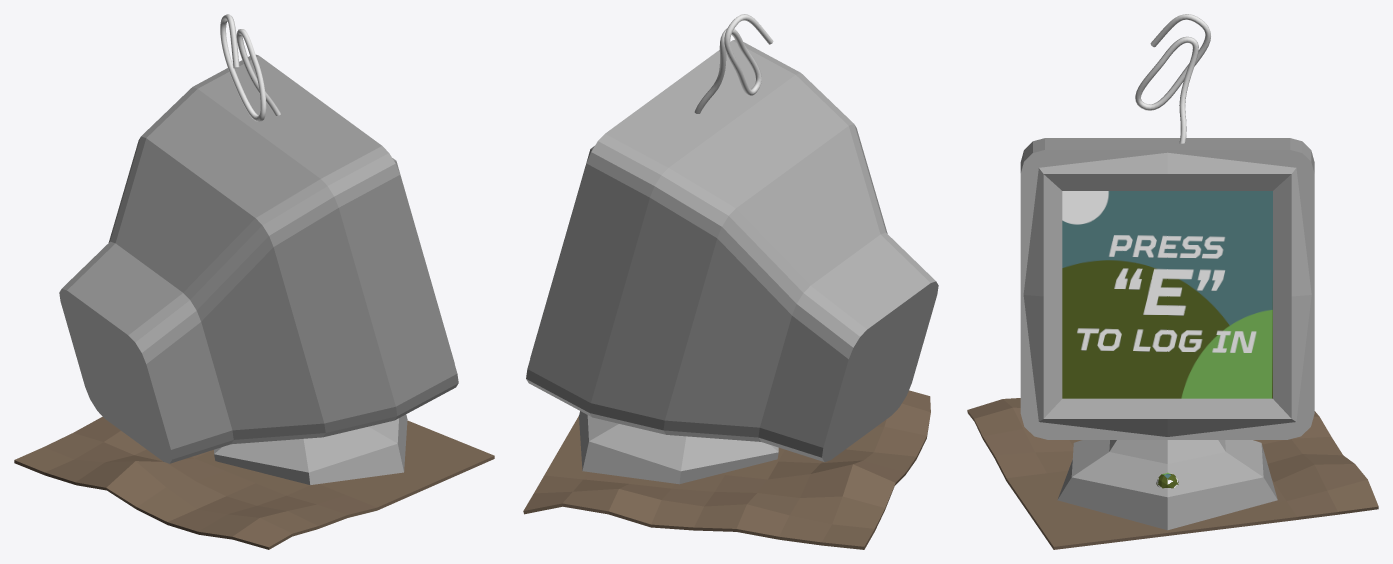
The model's file is laptop.fbx.
The picture shows the model from 3 angles, left to right: view 1: azimuth 30°, elevation 25°; view 2: azimuth 150°, elevation 25°; view 3: azimuth 270°, elevation 25°; orthographic projection. The views are drawn at different scales.
Visible parts, largest first — view 1: Cube, Plane, BezierCurve; view 2: Cube, Plane, BezierCurve; view 3: Cube, Plane, BezierCurve.
Part boxes in pixels (x1,y1,x2,y2): Cube: [59, 54, 458, 485]; Plane: [14, 416, 494, 549]; BezierCurve: [220, 14, 280, 121]; Cube: [526, 39, 938, 484]; Plane: [523, 390, 930, 549]; BezierCurve: [694, 14, 773, 113]; Cube: [1020, 138, 1314, 530]; Plane: [967, 398, 1378, 549]; BezierCurve: [1135, 14, 1210, 143].
Bounding box in the file's own units: 286 × 330 × 280.
